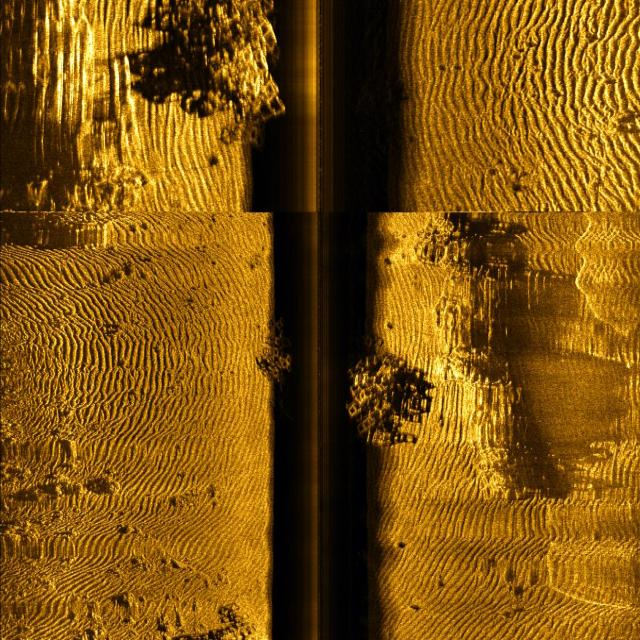artificial reef: (149, 0, 293, 134), (339, 343, 419, 451), (253, 303, 297, 394)
